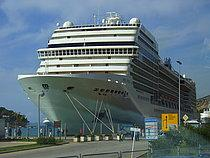Ship: (14, 10, 201, 142)
